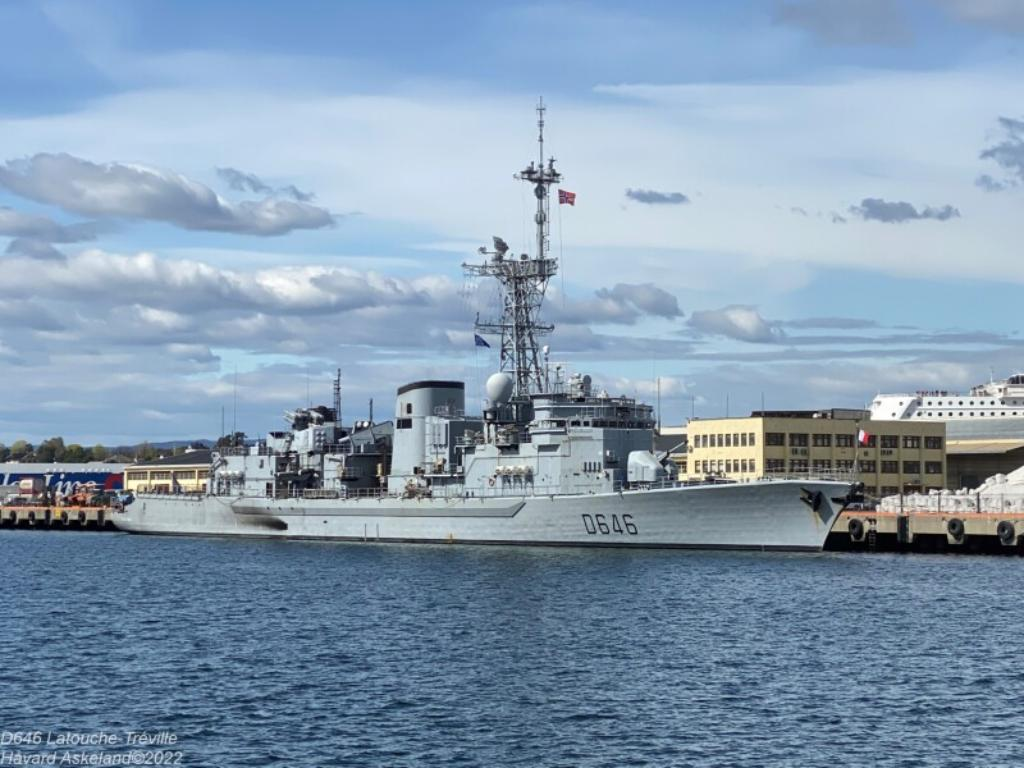Warship: (96, 95, 874, 555)
